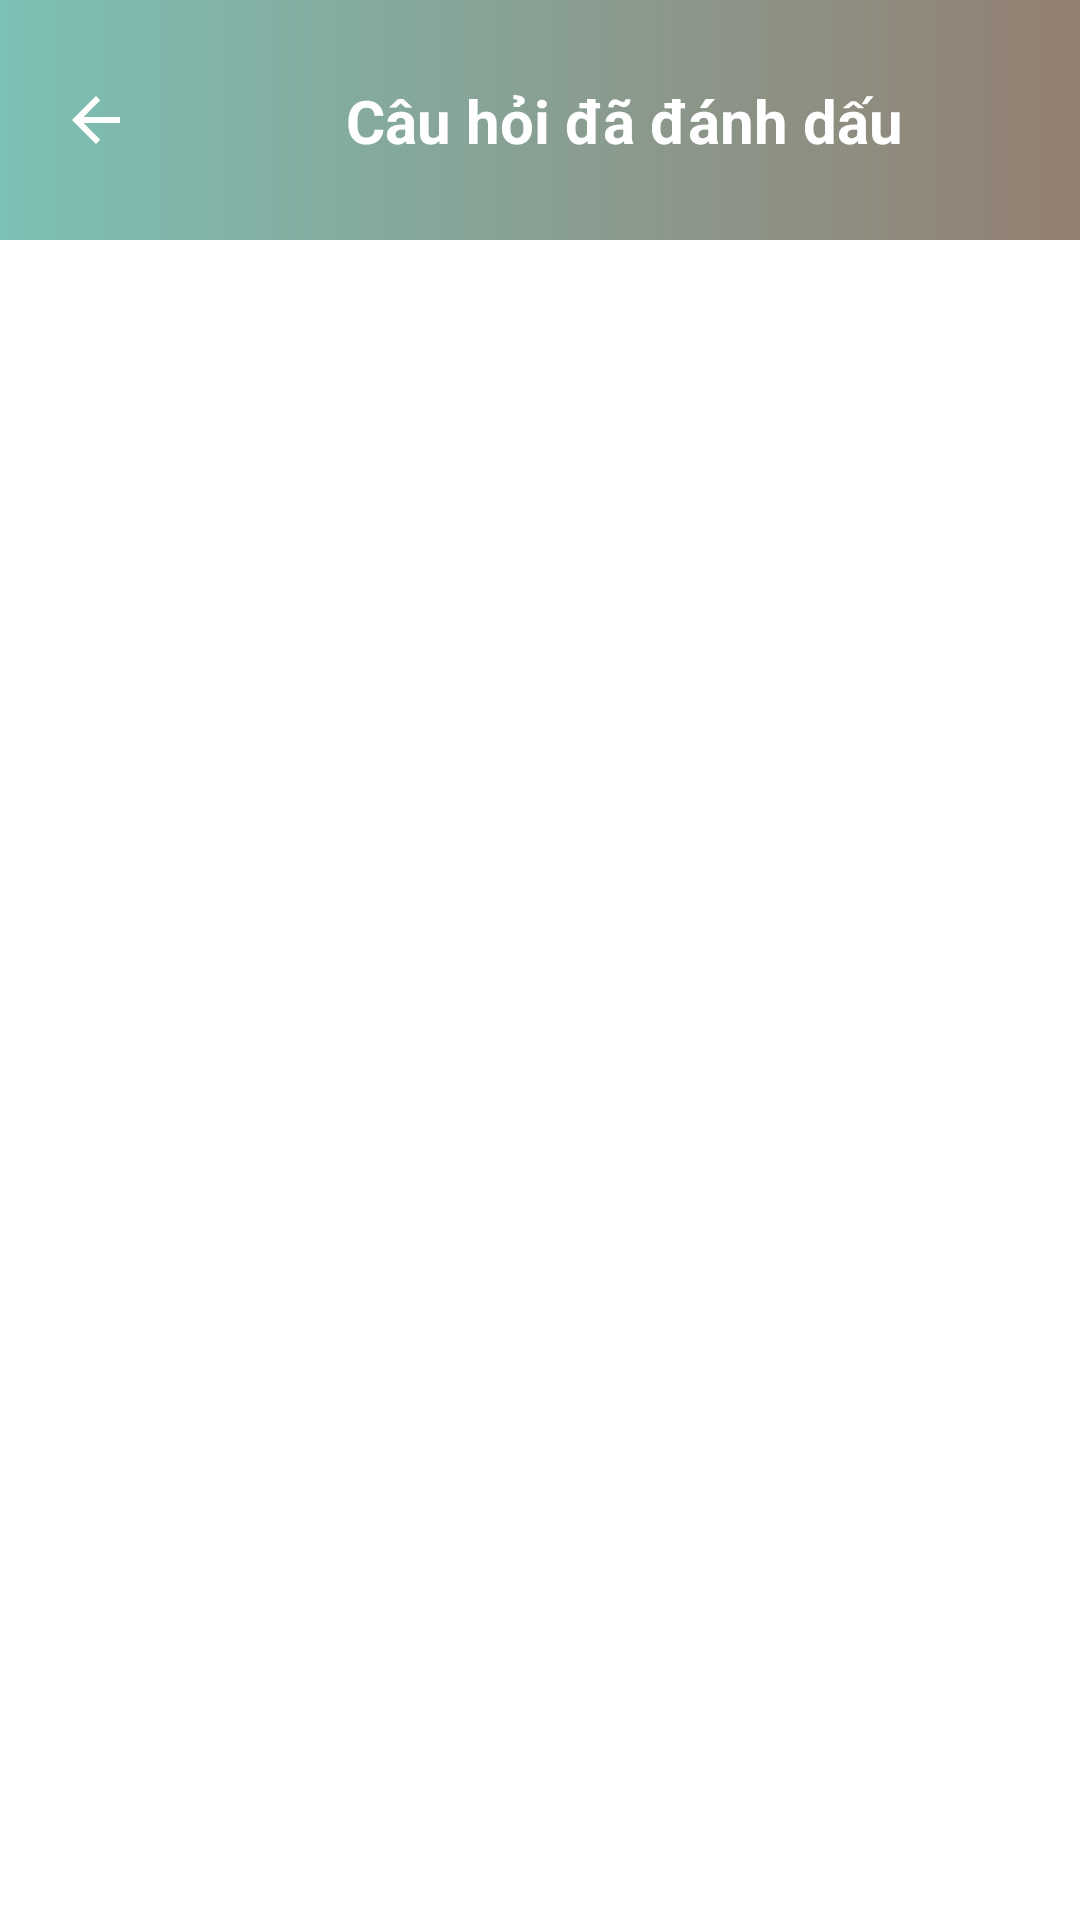

Screen size 1080w x 1920h. Icon name, then its center in pixels as (x,y):
Quay lại: (96,120)
